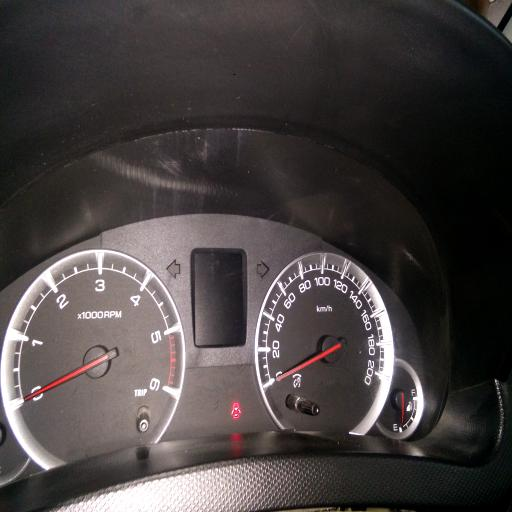tachometer: (1, 249, 185, 464)
